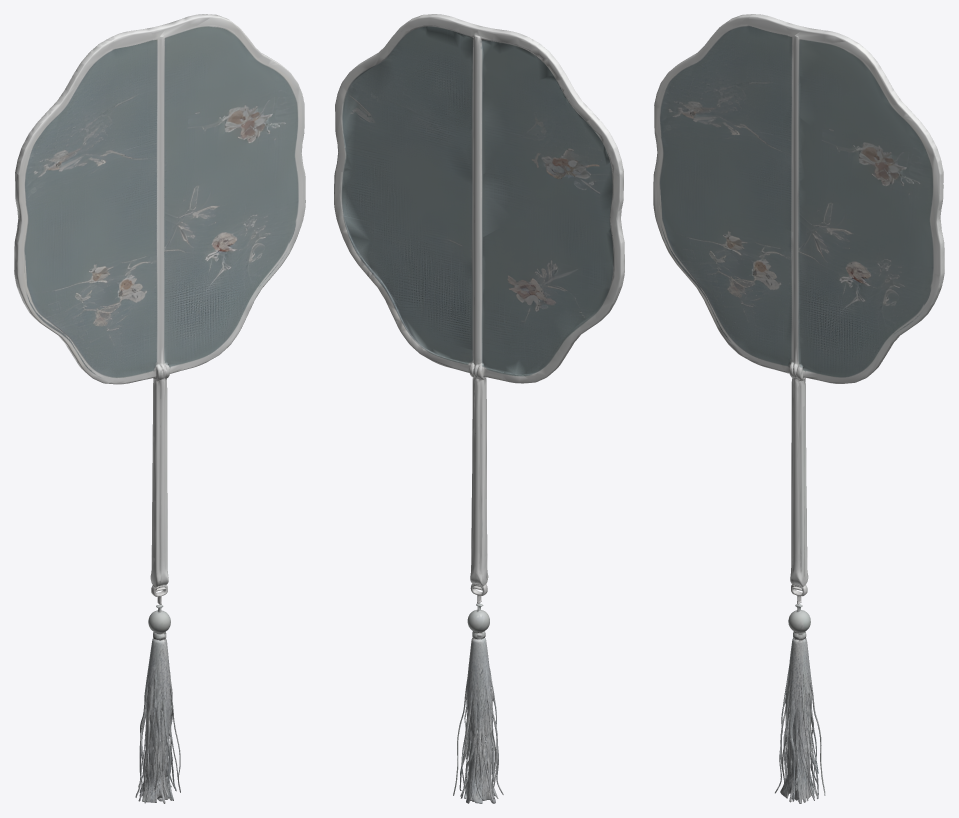
3 views of the same model, side by side, from view 1: azimuth 30°, elevation 25°; view 2: azimuth 150°, elevation 25°; view 3: azimuth 330°, elevation 25° (orthographic).
Visible parts, largest first — view 1: node_0; view 2: node_0; view 3: node_0.
Part boxes in pixels (left/top/right/bottom): node_0: left=14, top=14, right=305, bottom=803; node_0: left=334, top=14, right=624, bottom=803; node_0: left=653, top=14, right=944, bottom=803.
Bounding box in the file's own units: 0.4656 × 1.19 × 0.0588.
Materials: 1 (1 with a texture image).
